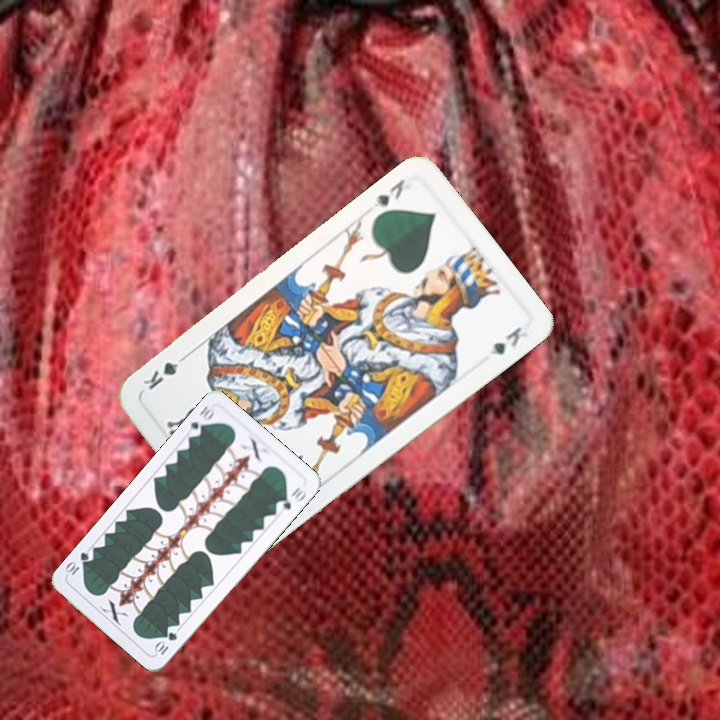G10: (184, 401, 218, 440), (151, 628, 180, 657)
GK: (368, 174, 408, 210)
